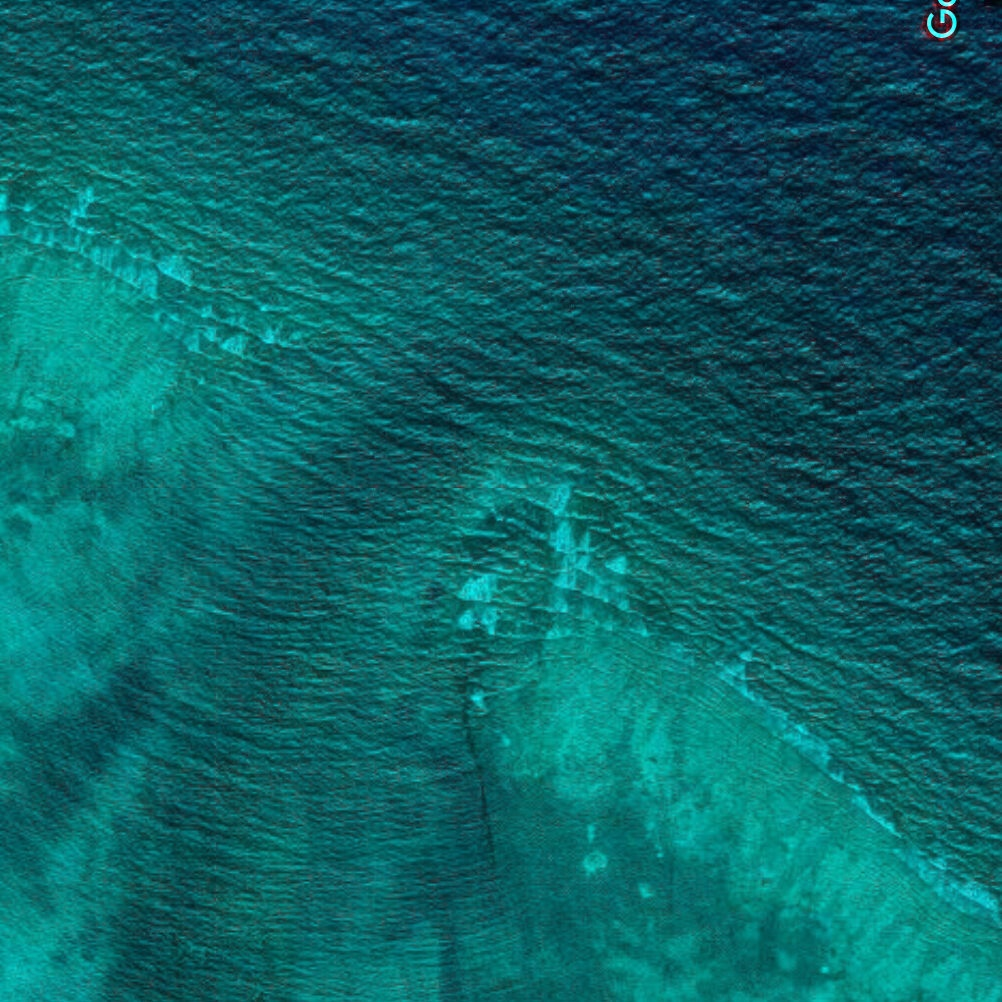rip_current: (140, 264, 640, 642)
